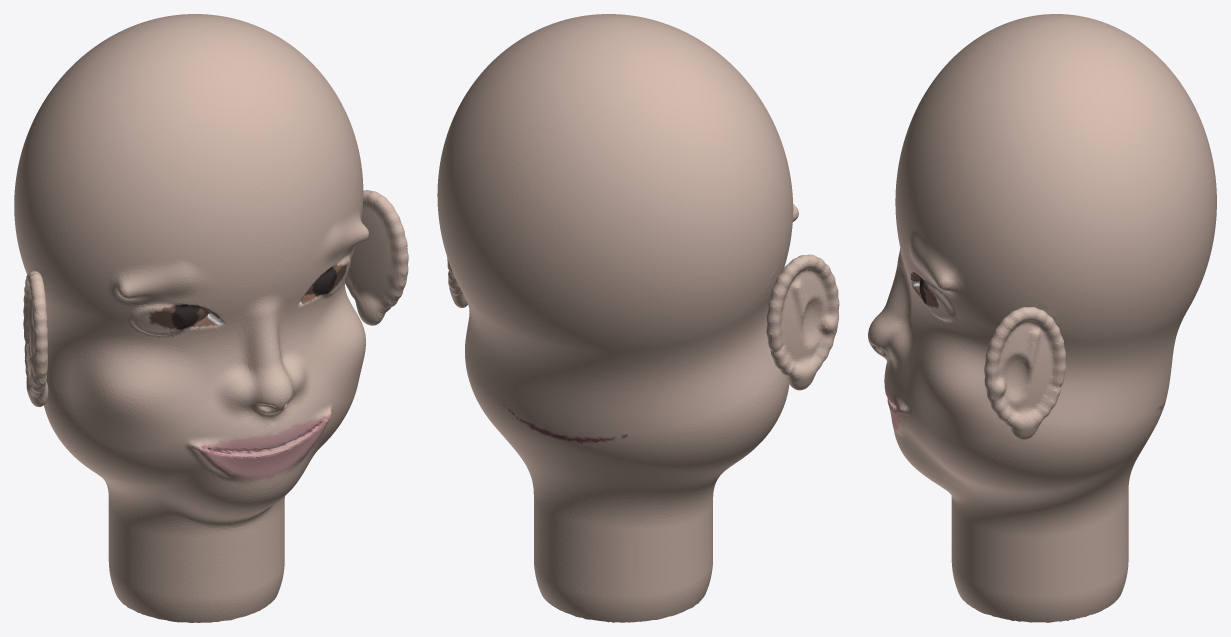
Rendered from karma_face_stage1_D_neutral_EXPERIMENT.glb.
The picture shows the model from 3 angles, left to right: view 1: azimuth 30°, elevation 25°; view 2: azimuth 150°, elevation 25°; view 3: azimuth 270°, elevation 25°; orthographic projection.
Visible parts, largest first — view 1: head; view 2: head; view 3: head.
Part boxes in pixels (left/top/right/bottom): head: left=14, top=14, right=408, bottom=622; head: left=437, top=14, right=839, bottom=622; head: left=868, top=14, right=1216, bottom=622.
Size of the model in its own units: 2.7 by 3.83 by 2.17.
